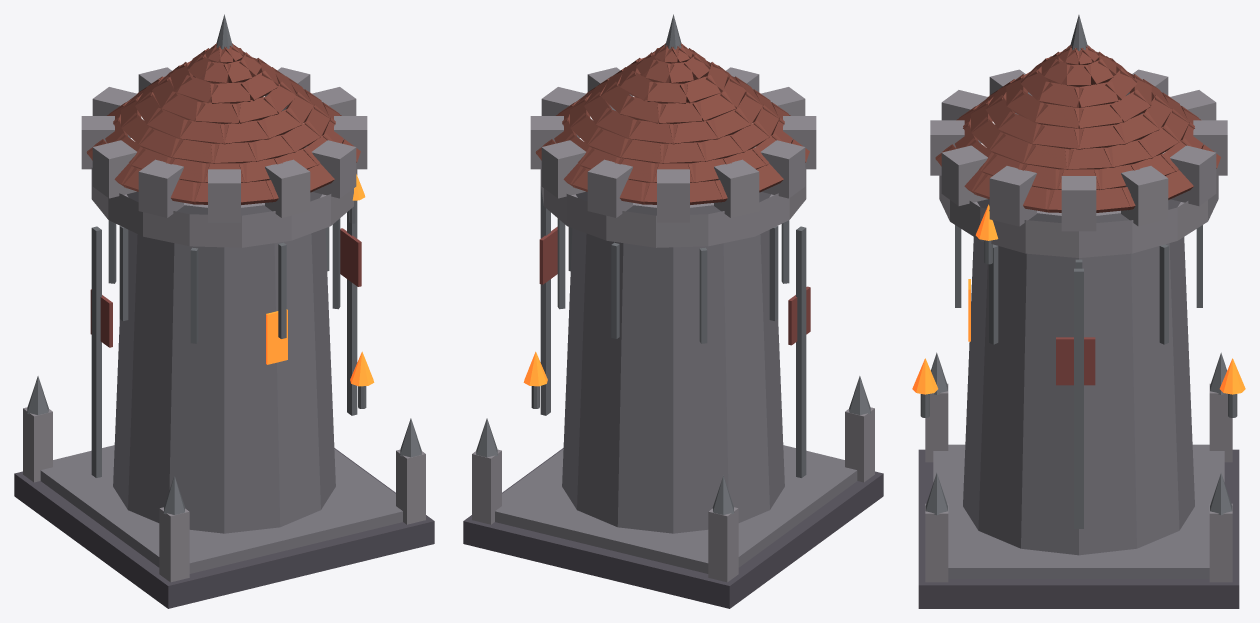
Rendered from tower.glb.
The picture shows the model from 3 angles, left to right: view 1: azimuth 30°, elevation 25°; view 2: azimuth 150°, elevation 25°; view 3: azimuth 270°, elevation 25°; orthographic projection. The views are drawn at different scales.
Parts seen in each view (by area): view 1: Watch Tower; view 2: Watch Tower; view 3: Watch Tower.
Boxes of the visible parts, box(x1,y1,x2,y2) form: Watch Tower: box(14, 14, 434, 608); Watch Tower: box(463, 14, 883, 608); Watch Tower: box(912, 15, 1245, 608).
Size of the model in its own units: 3.9 by 7.08 by 4.06.
